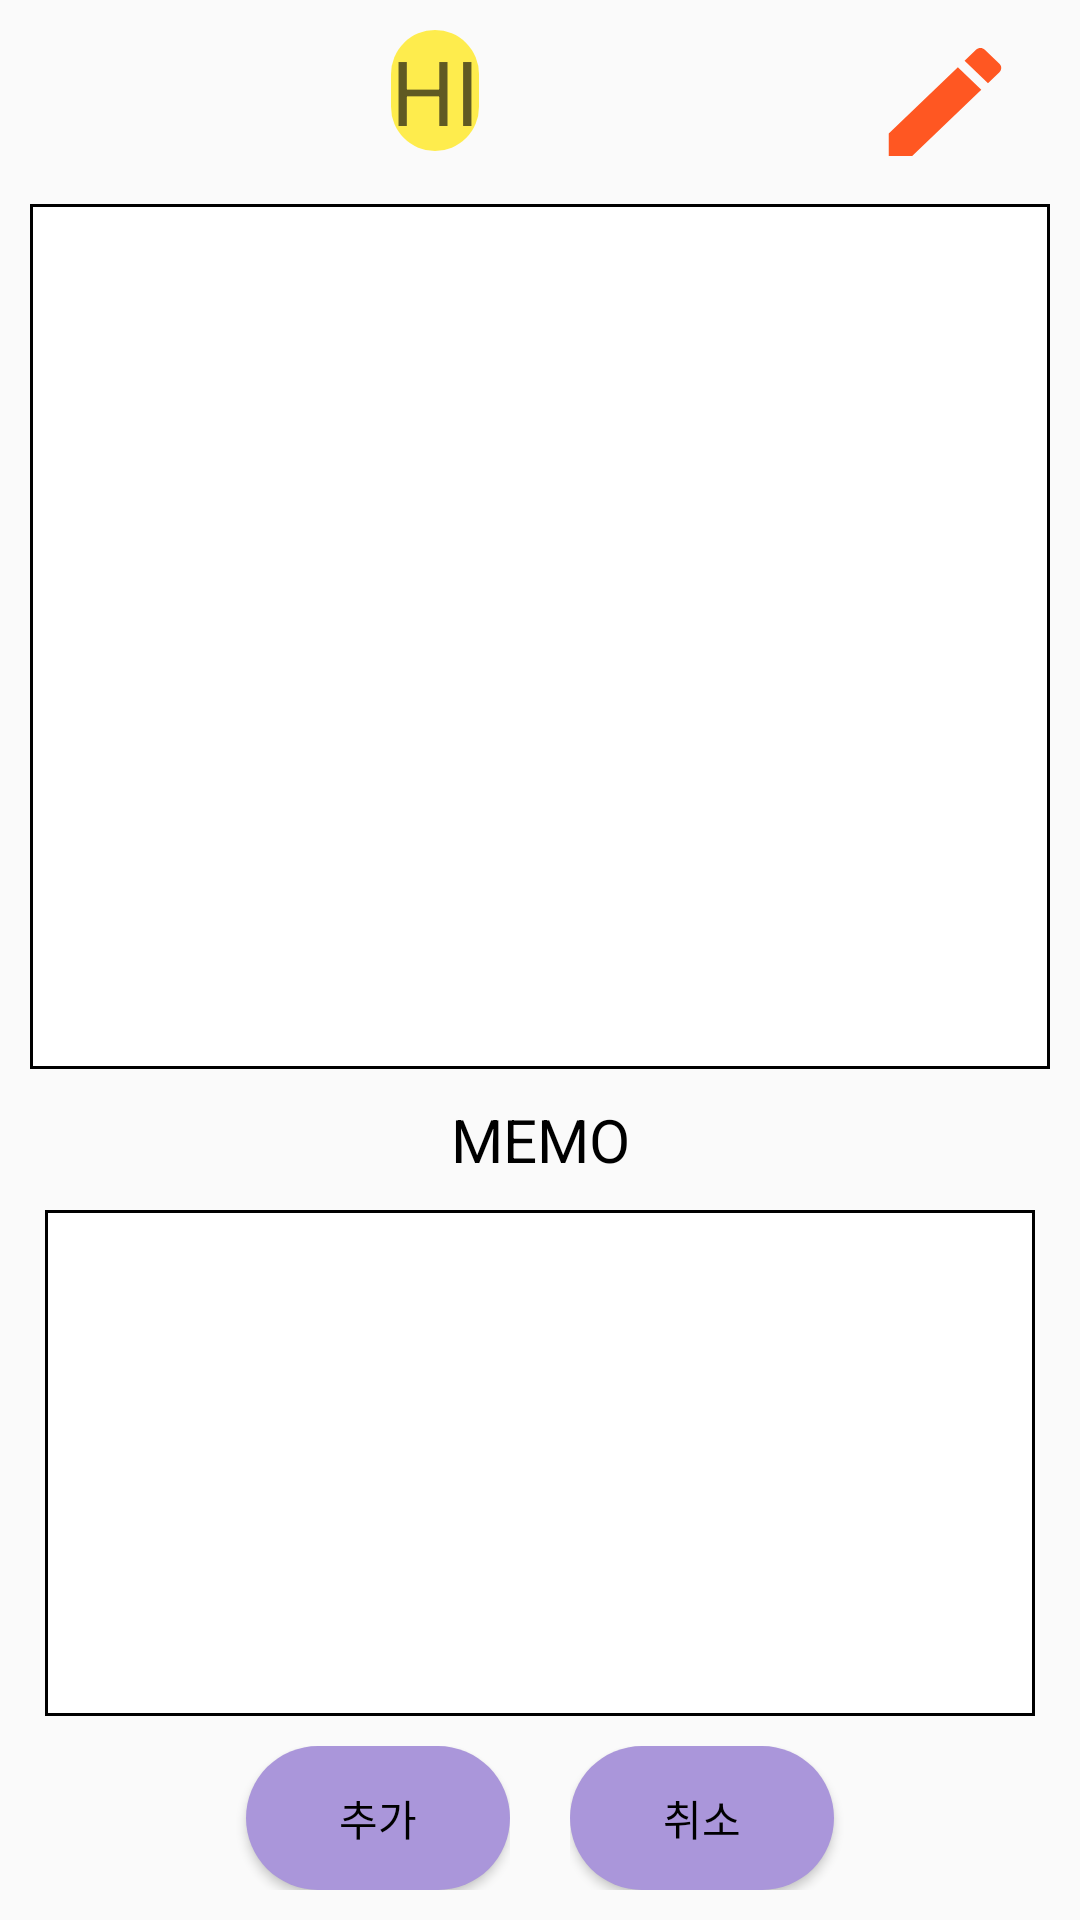

Icons on this 1080 x 1920 Android screen, each with its box as (x1, y1, x2, y2):
edit: (888, 48, 1002, 156)
